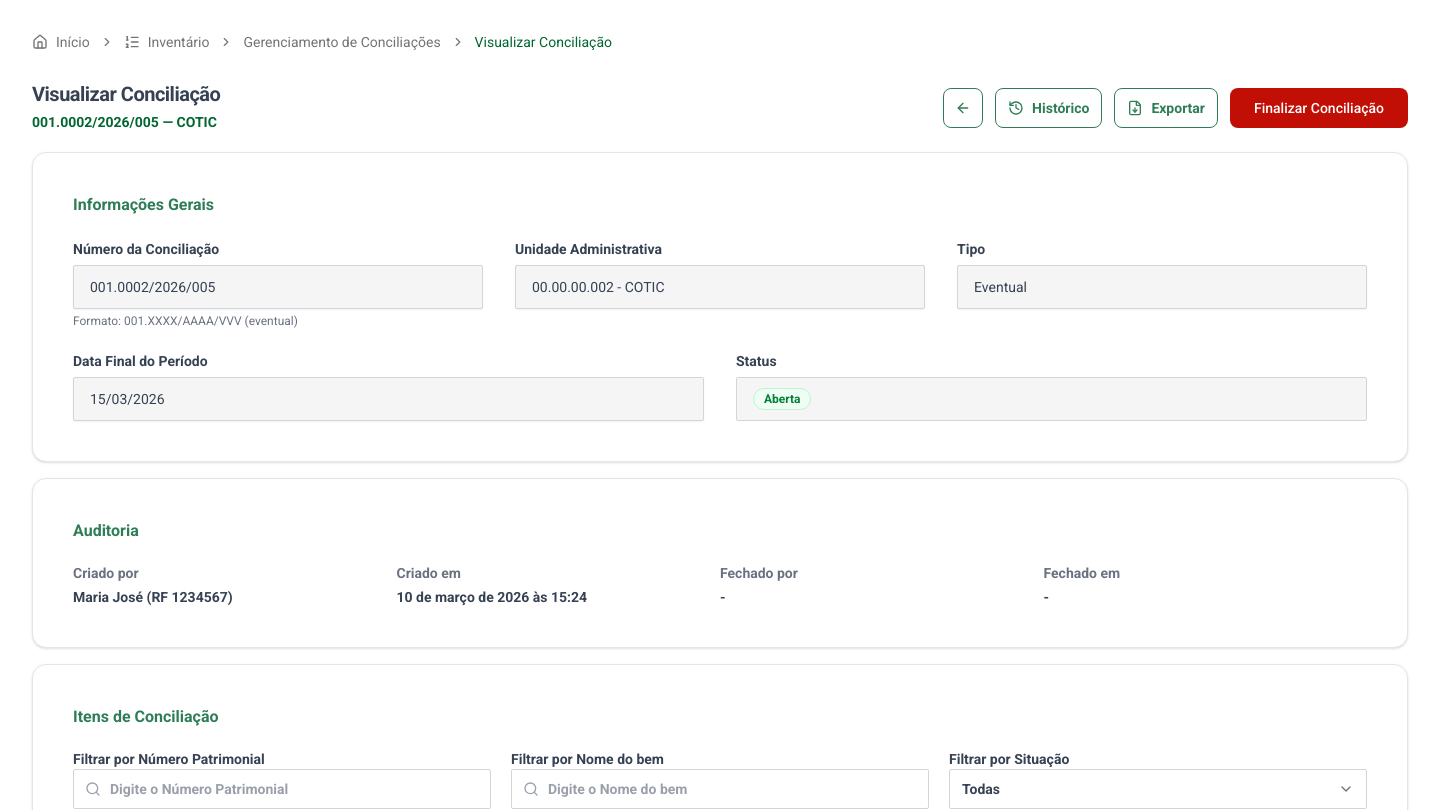
Test: VisualizarConciliacaoPage › abre o modal de historico ao clicar em Historico e carrega dados
Click the button with test id "visualizar-conciliacao-historico": (1049, 108) top-left (995, 88), bottom-right (1102, 128)
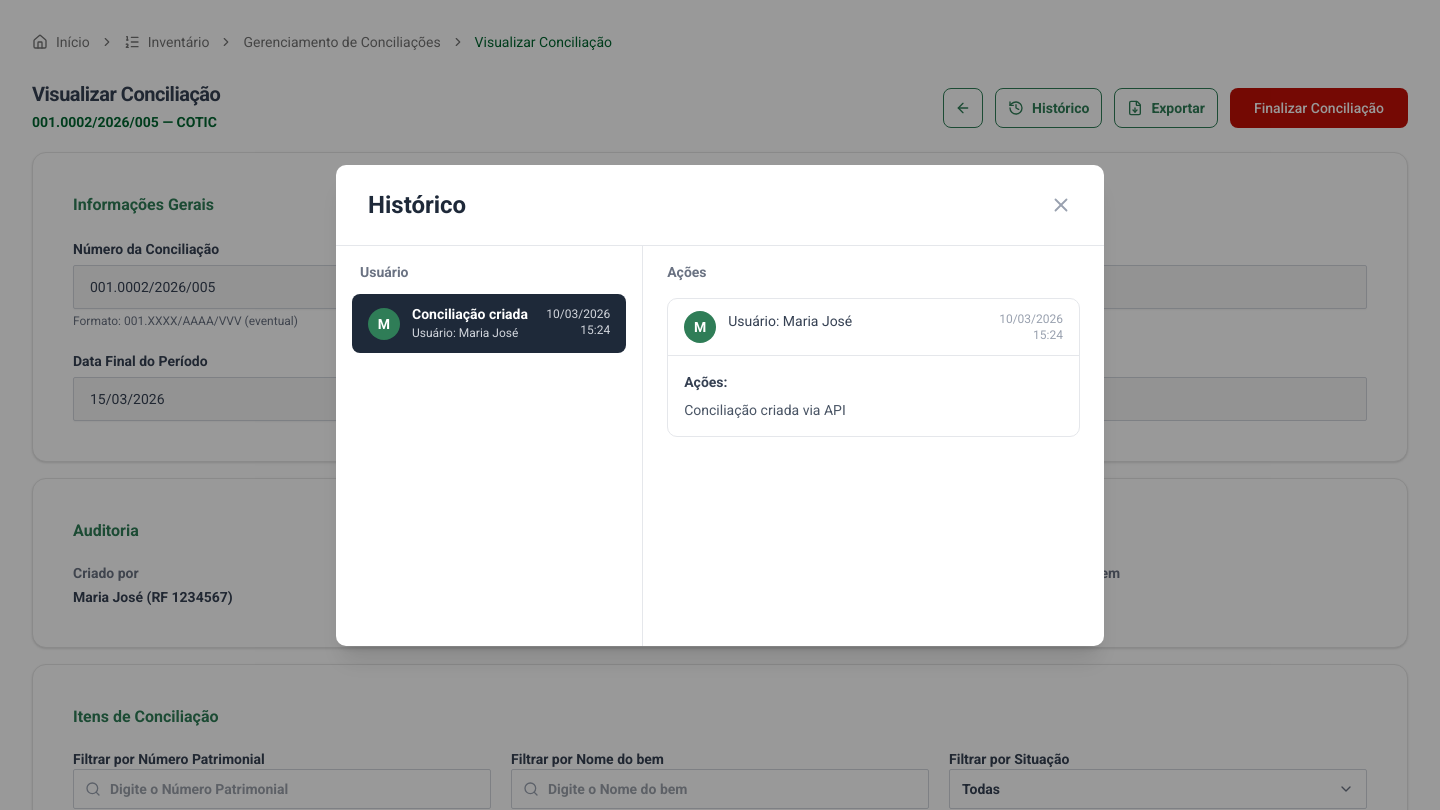
Expected: the element with test id "conciliacao-historico-modal" is shown, top-left (336, 164), bottom-right (1104, 646)
